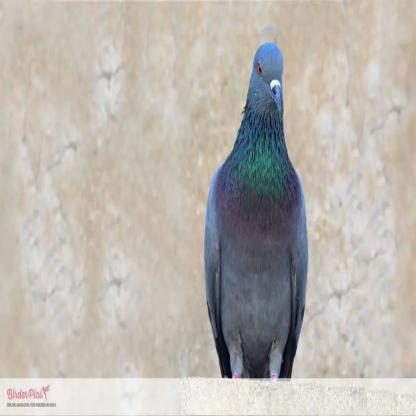Rock Pigeon: (191, 36, 314, 376)
